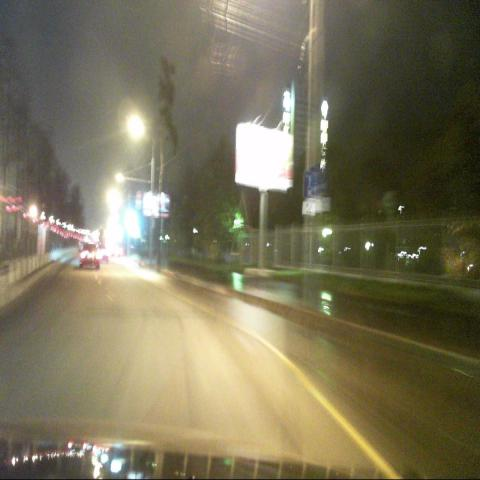5_14: (303, 170, 317, 197)
